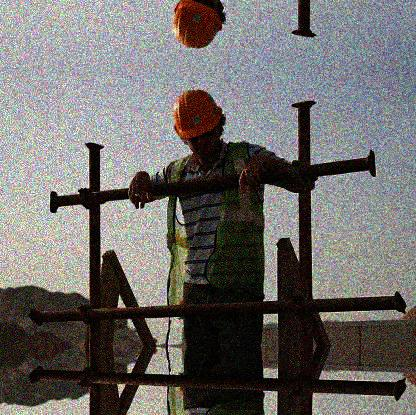helmet: (172, 90, 223, 159)
